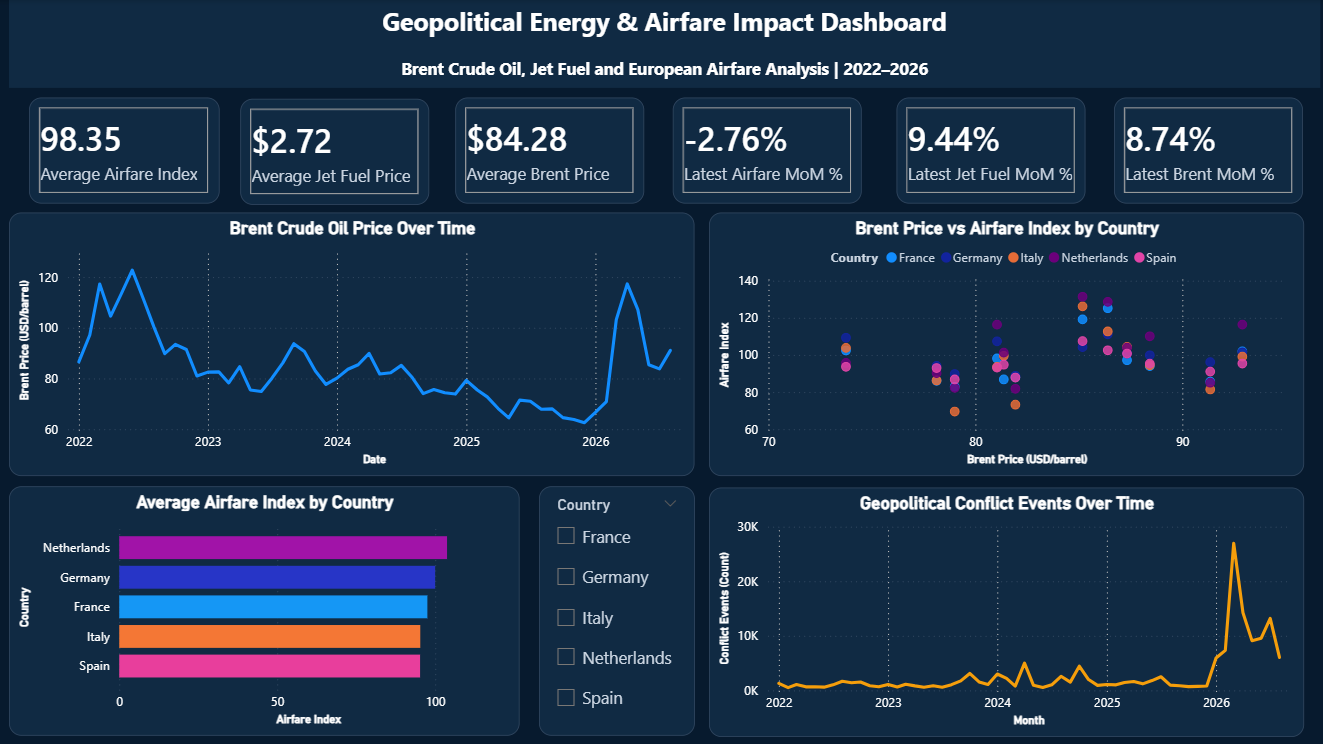

The dashboard page shown, as its layout file describes it:
{"tool":"powerbi","page":{"name":"Page 1","canvas":[1280,720],"ordinal":0},"visuals":[{"type":"lineChart","title":"Brent Crude Oil Price Over Time","fields":{"Category":["public energy_airfare.date"],"Y":["Avg(public energy_airfare.price_usd_per_barrel)"]},"box":[9.9,204.9,661.7,254.3],"z":0},{"type":"clusteredBarChart","title":"Average Airfare Index by Country","fields":{"Category":["public energy_airfare.country"],"Y":["Avg(public energy_airfare.airfare_index)"]},"box":[9.4,469.8,492.7,241],"z":1000},{"type":"scatterChart","title":"Brent Price vs Airfare Index by Country","fields":{"Category":["ScatterData.date.Variation.Date Hierarchy.Year","ScatterData.date.Variation.Date Hierarchy.Month"],"Series":["ScatterData.country"],"X":["Avg(ScatterData.BrentPrice)"],"Y":["Avg(ScatterData.AirfareIndex)"]},"box":[685.2,204.9,574.1,254.3],"z":2000},{"type":"cardVisual","fields":{"Data":["ScatterData.Average Brent Price"]},"box":[437.9,95.3,182.7,102.5],"z":3000},{"type":"cardVisual","fields":{"Data":["ScatterData.Average Jet Fuel Price"]},"box":[233.3,95.1,182.7,102.5],"z":4000},{"type":"cardVisual","fields":{"Data":["ScatterData.Average Airfare Index"]},"box":[28.4,93.8,184,102.5],"z":5000},{"type":"cardVisual","fields":{"Data":["ScatterData.Latest Brent MoM %"]},"box":[1062.9,95.3,182.7,102.5],"z":6000},{"type":"cardVisual","fields":{"Data":["ScatterData.Latest Jet Fuel MoM %"]},"box":[854.2,95.3,182.7,102.5],"z":7000},{"type":"cardVisual","fields":{"Data":["ScatterData.Latest Airfare MoM %"]},"box":[641.8,95.3,182.7,102.5],"z":8000},{"type":"textbox","box":[9.4,0,1265.5,84.8],"z":9000},{"type":"slicer","fields":{"Values":["public energy_airfare.country"]},"box":[521,469.8,150.8,241],"z":10000},{"type":"lineChart","title":"Geopolitical Conflict Events Over Time","fields":{"Category":["public gdelt_monthly.month"],"Y":["Sum(public gdelt_monthly.conflict_events)"]},"box":[685,470,574,241],"z":11000}]}

Visuals, with their boxes in screenshot pixels (x1, y1, x2, y2), scaled from the page's 1280x720 canvas onto the 1323x744 screenshot:
"Brent Crude Oil Price Over Time" lineChart: [left=10, top=212, right=694, bottom=475]
"Average Airfare Index by Country" clusteredBarChart: [left=10, top=485, right=519, bottom=734]
"Brent Price vs Airfare Index by Country" scatterChart: [left=708, top=212, right=1302, bottom=475]
cardVisual - ScatterData.Average Brent Price: [left=453, top=98, right=641, bottom=204]
cardVisual - ScatterData.Average Jet Fuel Price: [left=241, top=98, right=430, bottom=204]
cardVisual - ScatterData.Average Airfare Index: [left=29, top=97, right=220, bottom=203]
cardVisual - ScatterData.Latest Brent MoM %: [left=1099, top=98, right=1287, bottom=204]
cardVisual - ScatterData.Latest Jet Fuel MoM %: [left=883, top=98, right=1072, bottom=204]
cardVisual - ScatterData.Latest Airfare MoM %: [left=663, top=98, right=852, bottom=204]
textbox: [left=10, top=0, right=1318, bottom=88]
slicer - public energy_airfare.country: [left=539, top=485, right=694, bottom=734]
"Geopolitical Conflict Events Over Time" lineChart: [left=708, top=486, right=1301, bottom=735]
